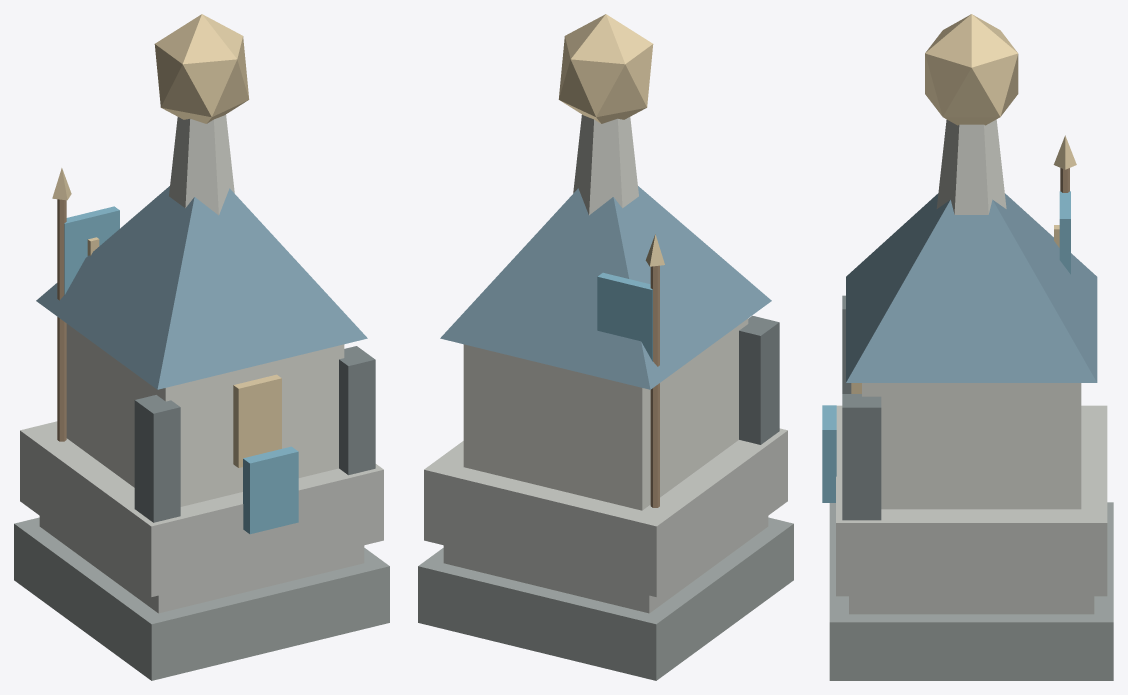
File: human_temple_t4.glb
3 views of the same model, side by side, from view 1: azimuth 30°, elevation 25°; view 2: azimuth 150°, elevation 25°; view 3: azimuth 270°, elevation 25° (orthographic). The views are drawn at different scales.
Parts seen in each view (by area): view 1: human_temple_t4_MAT_roof, human_temple_t4_MAT_stone, human_temple_t4_MAT_light, human_temple_t4_MAT_dark, human_temple_t4_MAT_gold, human_temple_t4_MAT_iron, human_temple_t4_MAT_blue, human_temple_t4_MAT_wood; view 2: human_temple_t4_MAT_light, human_temple_t4_MAT_stone, human_temple_t4_MAT_roof, human_temple_t4_MAT_dark, human_temple_t4_MAT_gold, human_temple_t4_MAT_iron, human_temple_t4_MAT_blue, human_temple_t4_MAT_wood; view 3: human_temple_t4_MAT_roof, human_temple_t4_MAT_stone, human_temple_t4_MAT_light, human_temple_t4_MAT_dark, human_temple_t4_MAT_gold, human_temple_t4_MAT_iron, human_temple_t4_MAT_blue.
Part boxes in pixels (x1,y1,x2,y2): human_temple_t4_MAT_roof: (36,186,367,389); human_temple_t4_MAT_stone: (20,421,383,613); human_temple_t4_MAT_light: (66,114,344,506); human_temple_t4_MAT_dark: (14,517,389,680); human_temple_t4_MAT_gold: (52,14,281,467); human_temple_t4_MAT_iron: (134,346,375,522); human_temple_t4_MAT_blue: (64,206,298,534); human_temple_t4_MAT_wood: (57,199,66,441); human_temple_t4_MAT_light: (463,114,748,510); human_temple_t4_MAT_stone: (424,428,787,613); human_temple_t4_MAT_roof: (440,186,771,389); human_temple_t4_MAT_dark: (418,517,793,680); human_temple_t4_MAT_gold: (558,14,664,266); human_temple_t4_MAT_iron: (739,315,779,444); human_temple_t4_MAT_blue: (597,272,652,361); human_temple_t4_MAT_wood: (650,265,659,507); human_temple_t4_MAT_roof: (846,193,1097,382); human_temple_t4_MAT_stone: (836,405,1107,614); human_temple_t4_MAT_light: (862,119,1081,509); human_temple_t4_MAT_dark: (829,502,1113,680); human_temple_t4_MAT_gold: (851,14,1076,393); human_temple_t4_MAT_iron: (842,295,881,520); human_temple_t4_MAT_blue: (822,191,1070,502).
Size of the model in its own units: 0.88 by 2.07 by 0.9025.
